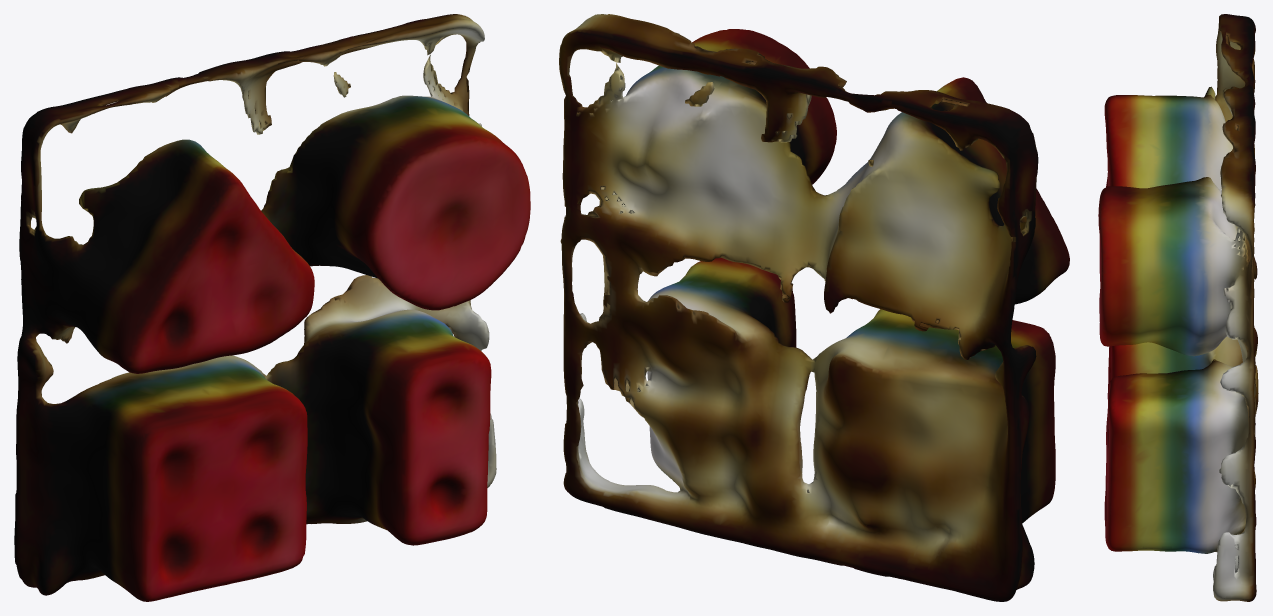
File: sorting_board.glb
3 views of the same model, side by side, from view 1: azimuth 30°, elevation 25°; view 2: azimuth 150°, elevation 25°; view 3: azimuth 270°, elevation 25° (orthographic). The views are drawn at different scales.
Size of the model in its own units: 0.9988 by 0.9982 by 0.3489.
